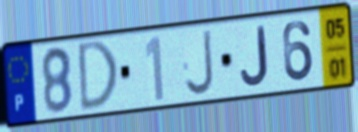1: (144, 34, 165, 104)
6: (281, 20, 316, 84)
8: (40, 45, 74, 116)
D: (77, 38, 121, 116)
J: (183, 27, 217, 99), (238, 24, 271, 89)
